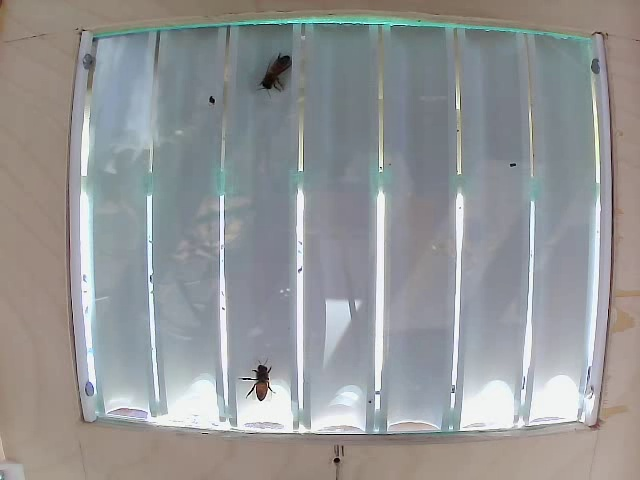bee: (255, 61, 298, 117), (236, 362, 279, 399)
